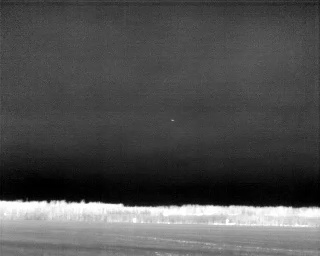HELICOPTER: (169, 117, 176, 124)
